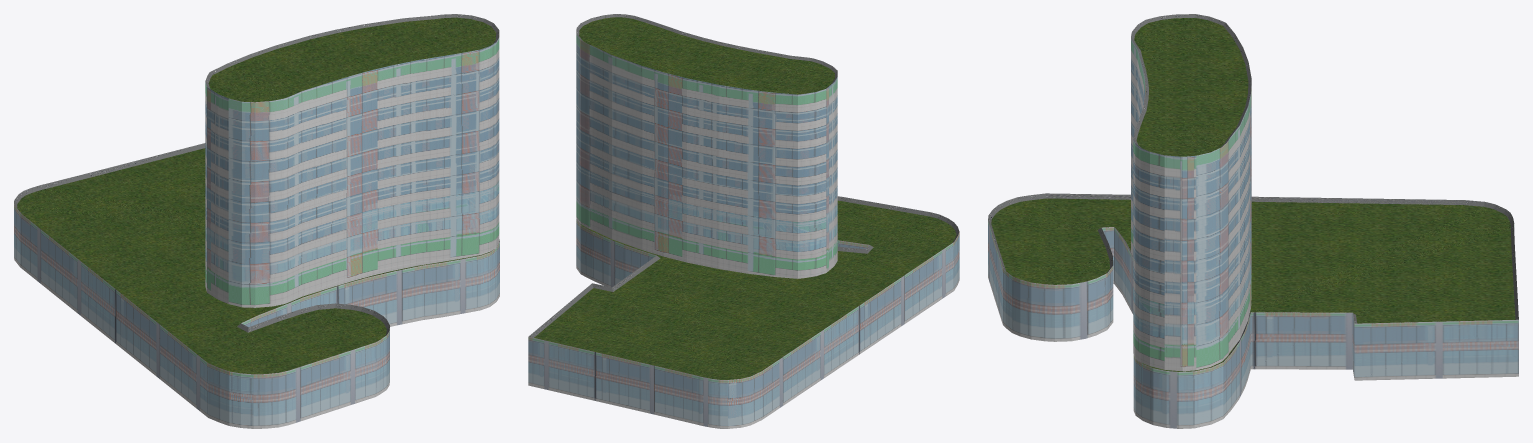
The model's file is lia2.gltf.
The picture shows the model from 3 angles, left to right: view 1: azimuth 30°, elevation 25°; view 2: azimuth 150°, elevation 25°; view 3: azimuth 270°, elevation 25°; orthographic projection. The views are drawn at different scales.
Visible parts, largest first — view 1: Line001; view 2: Line001; view 3: Line001.
Part boxes in pixels (box(x1,y1,x2,y2)): Line001: box(14, 14, 499, 428); Line001: box(528, 14, 959, 428); Line001: box(988, 14, 1518, 428).
Size of the model in its own units: 524 by 372 by 657.
4 materials, 4 textured.
